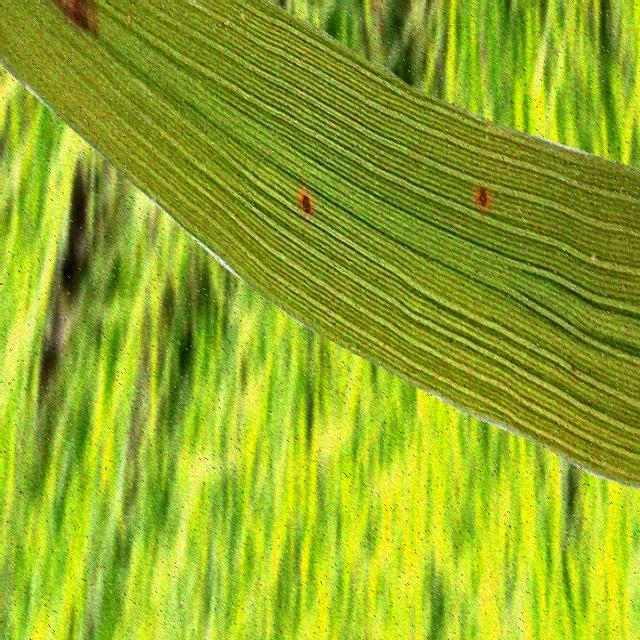LEAF BLAST: (49, 0, 89, 31)
